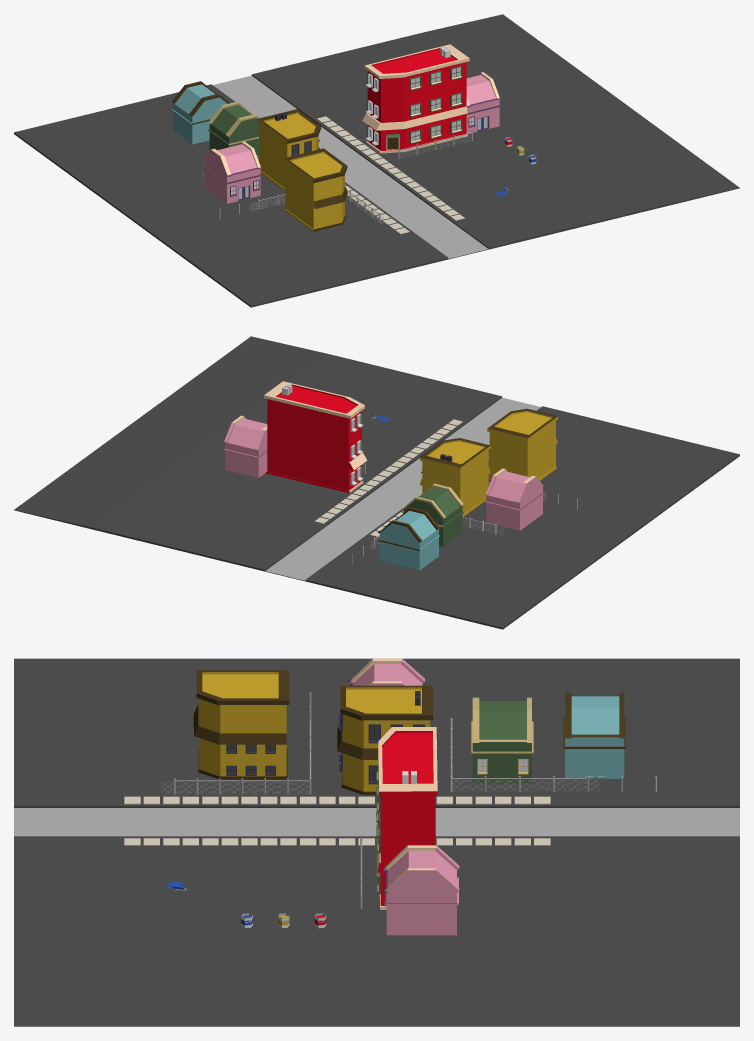
File: street_paint.fbx
3 renders of one model, top to bottom at view 1: azimuth 30°, elevation 25°; view 2: azimuth 150°, elevation 25°; view 3: azimuth 270°, elevation 25°, orthographic. The views are drawn at different scales.
Visible parts, largest first — view 1: Cube.004, Cube.008, Cube, Cube.012, Cube.017, Cube.015, Cube.009, Cube.006; view 2: Cube.004, Cube.008, Cube, Cube.012, Cube.017, Cube.015, Cube.009, Cube.007; view 3: Cube.004, Cube, Cube.012, Cube.008, Cube.009, Cube.017, Cube.015, Plane.003, Plane, Cube.011.
Boxes of the visible parts, x1,y1,x2,y2 form: Cube.004: (14,14,739,307); Cube.008: (362,44,469,153); Cube: (257,109,347,231); Cube.012: (202,72,500,203); Cube.017: (171,81,229,144); Cube.015: (208,101,259,157); Cube.009: (317,116,465,233); Cube.006: (409,65,462,143); Cube.004: (14,336,739,629); Cube.008: (264,381,367,493); Cube: (420,408,558,516); Cube.012: (223,415,544,530); Cube.017: (378,507,440,570); Cube.015: (401,483,463,546); Cube.009: (314,419,489,536); Cube.007: (350,413,363,485); Cube.004: (14,658,739,1026); Cube: (193,670,432,794); Cube.012: (348,658,459,935); Cube.008: (376,727,437,909); Cube.009: (124,796,550,845); Cube.017: (563,693,625,778); Cube.015: (471,697,533,783); Plane.003: (452,778,599,791); Plane: (161,781,308,793); Cube.011: (226,744,275,775).
Size of the model in its own units: 10370 by 1721 by 8708.
